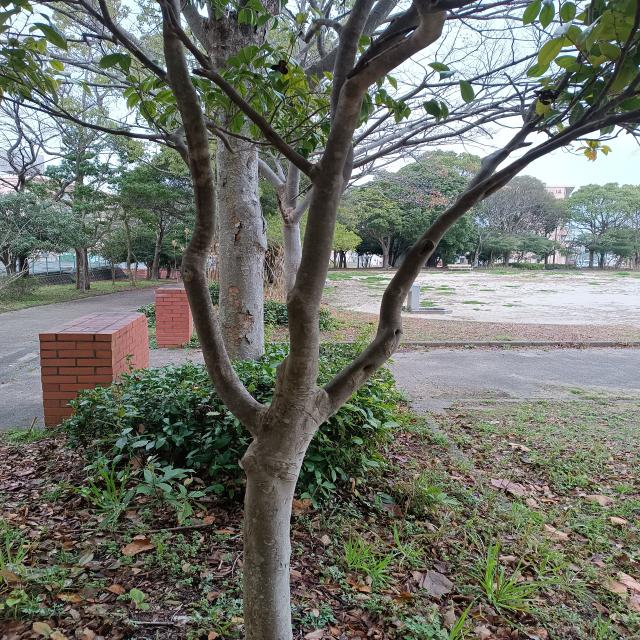Branch: (324, 109, 601, 407), (282, 0, 444, 378), (161, 0, 263, 427)
Twig: (176, 23, 318, 179), (353, 52, 538, 149), (355, 109, 507, 167), (406, 81, 546, 143), (468, 115, 543, 187), (332, 0, 376, 80), (40, 0, 105, 27), (301, 17, 341, 44)
